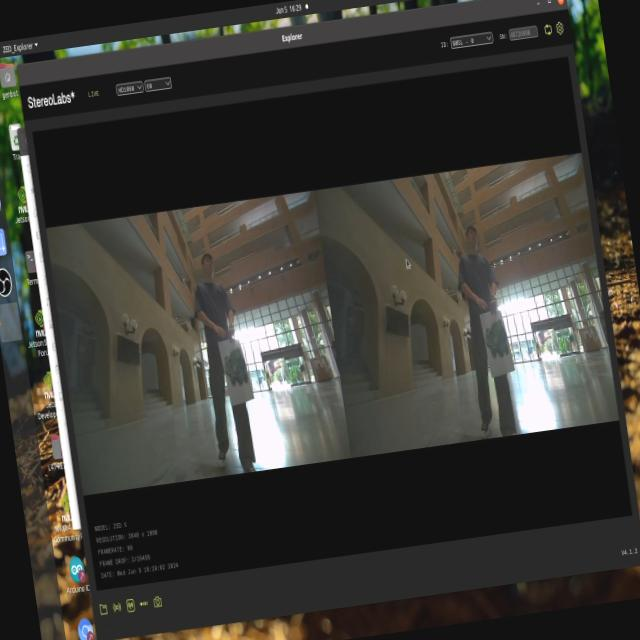green: (221, 341, 254, 397), (482, 316, 514, 368)
